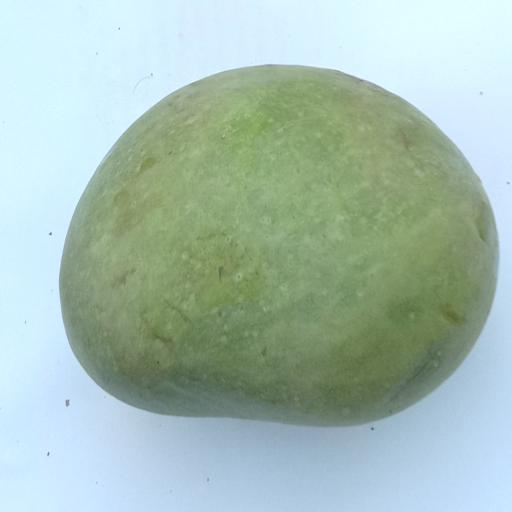mango-unripe: (42, 25, 504, 459)
